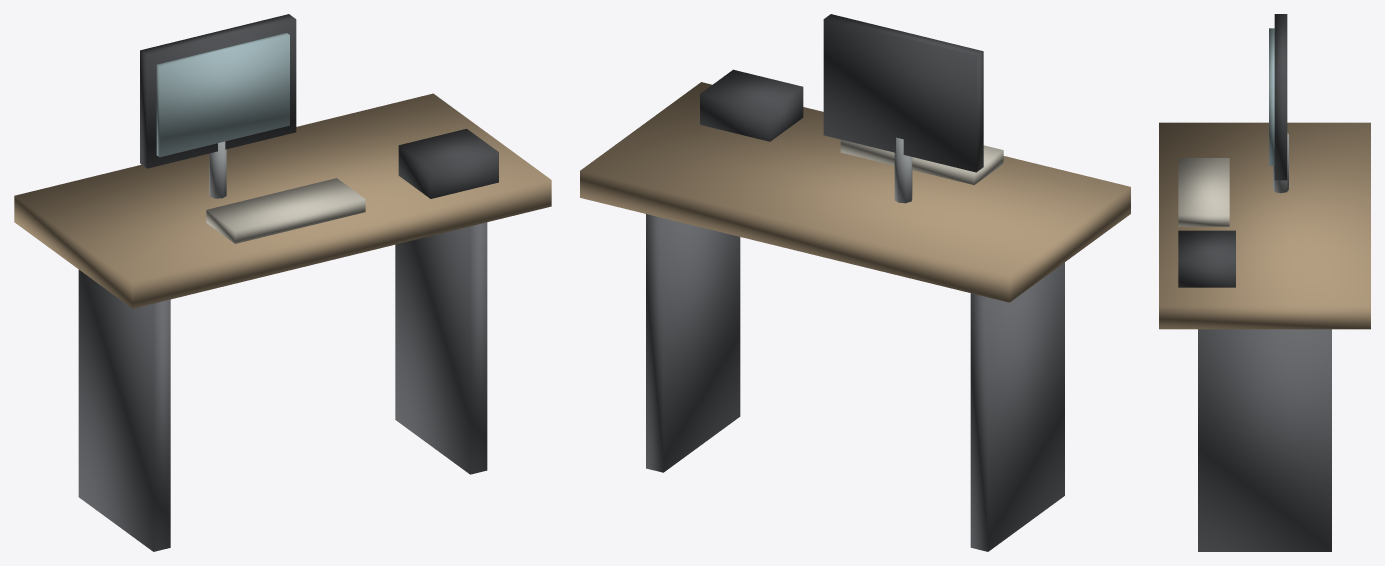
The model's file is modern_workstation__tall.glb.
3 views of the same model, side by side, from view 1: azimuth 30°, elevation 25°; view 2: azimuth 150°, elevation 25°; view 3: azimuth 270°, elevation 25° (orthographic). The views are drawn at different scales.
Visible parts, largest first — view 1: world; view 2: world; view 3: world.
Boxes of the visible parts, x1,y1,x2,y2 form: world: (14, 14, 551, 551); world: (580, 14, 1130, 551); world: (1159, 14, 1370, 551).
Size of the model in its own units: 1.35 by 1.4 by 0.66.
